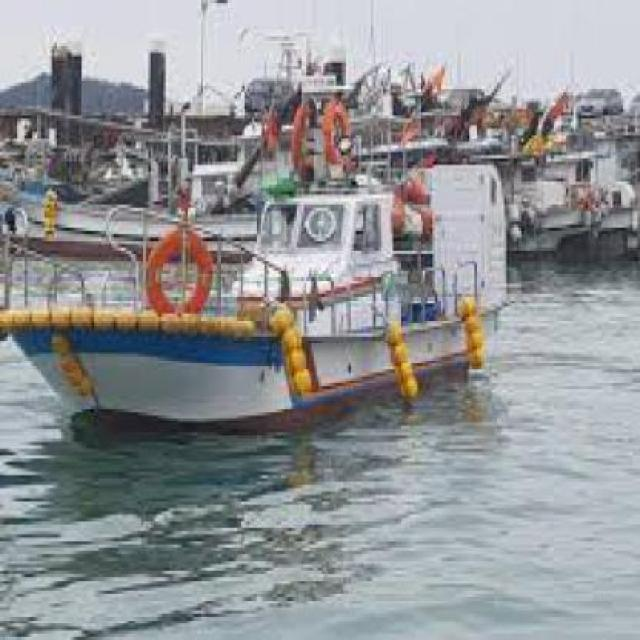fish-b: (1, 127, 523, 447)
